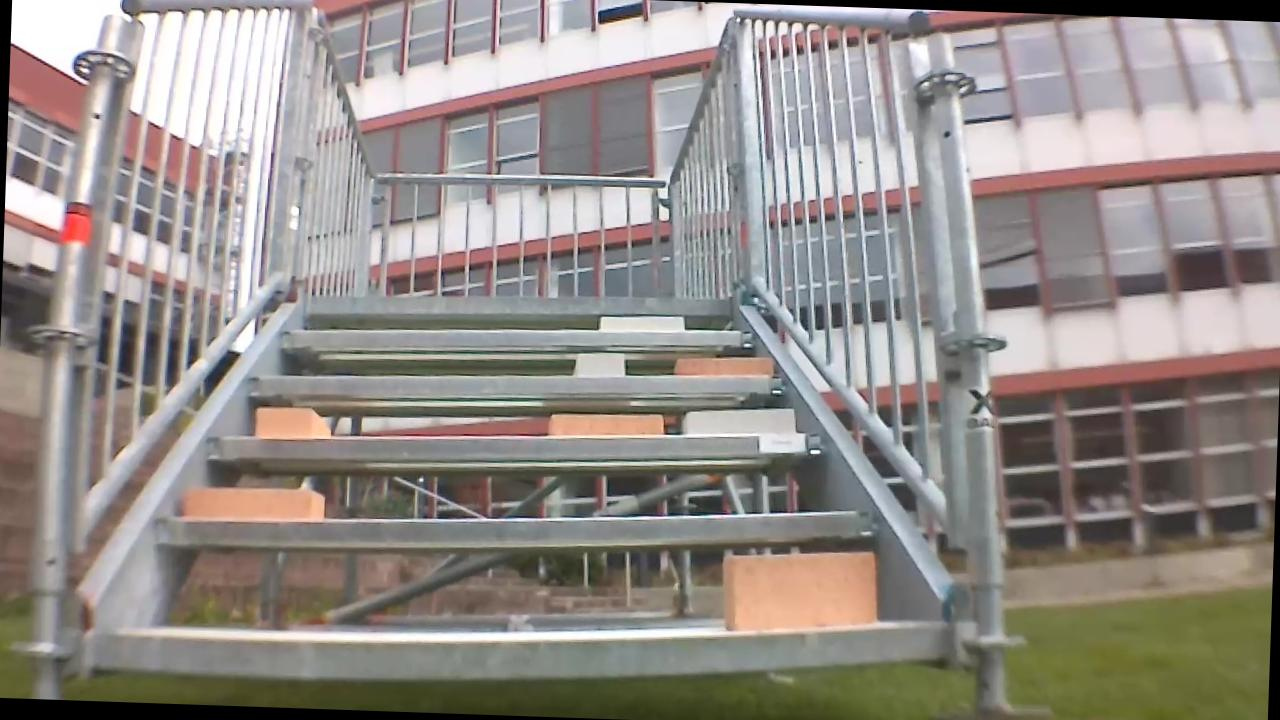brick: (720, 546, 874, 634), (186, 484, 323, 523), (688, 404, 793, 437), (549, 411, 662, 437), (256, 405, 332, 438), (673, 353, 771, 376), (600, 313, 684, 333), (573, 351, 622, 377)
edge: (94, 596, 944, 700), (154, 486, 873, 564), (205, 411, 824, 475), (246, 357, 782, 410), (277, 314, 755, 360), (309, 283, 730, 325)
steps: (89, 271, 960, 710)
